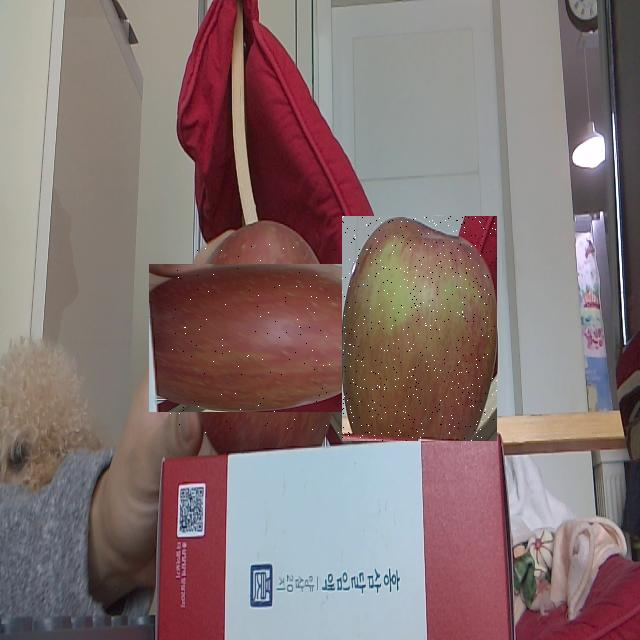apple: (169, 243, 359, 433), (342, 216, 497, 441)
